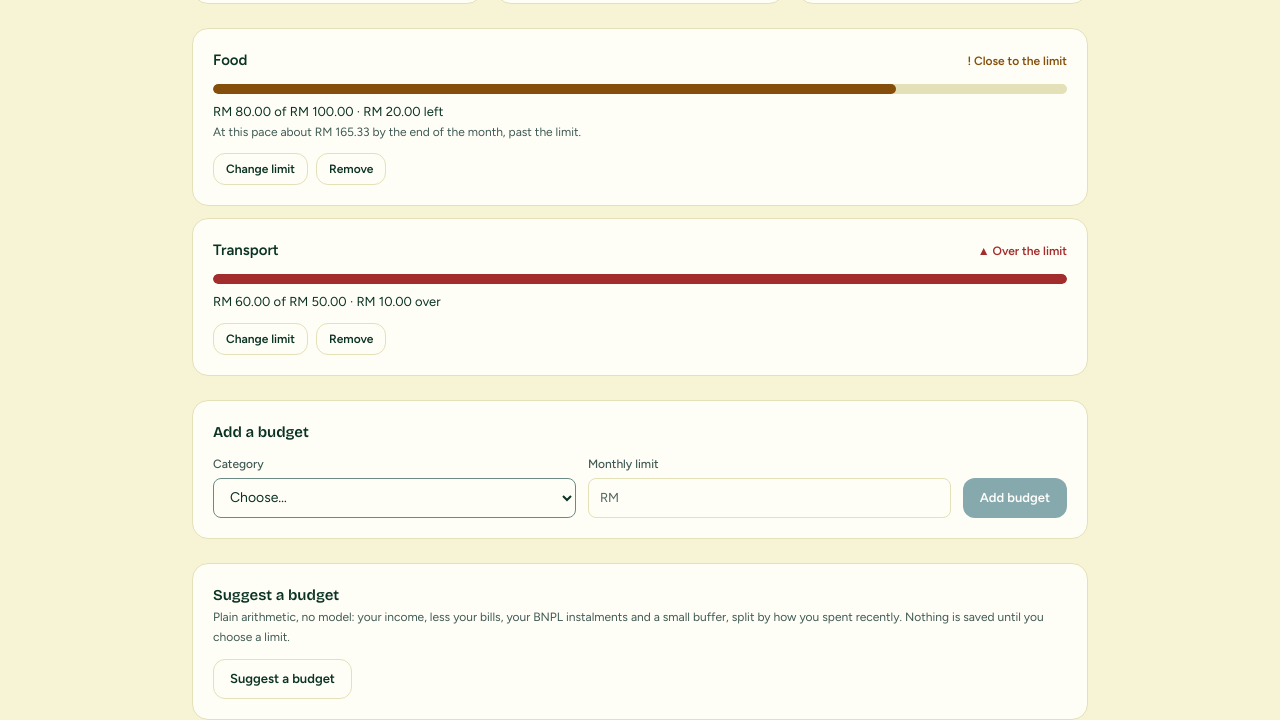
Test: BudgetsScreen › suggests a budget with the working shown, and saves one on request
(page scrolled)
What coordinates should you click on to do the following:
click the button "Suggest a budget"
I would click on:
 (282, 679)
Its box is x1=213 y1=659 x2=352 y2=699.
(page scrolled)
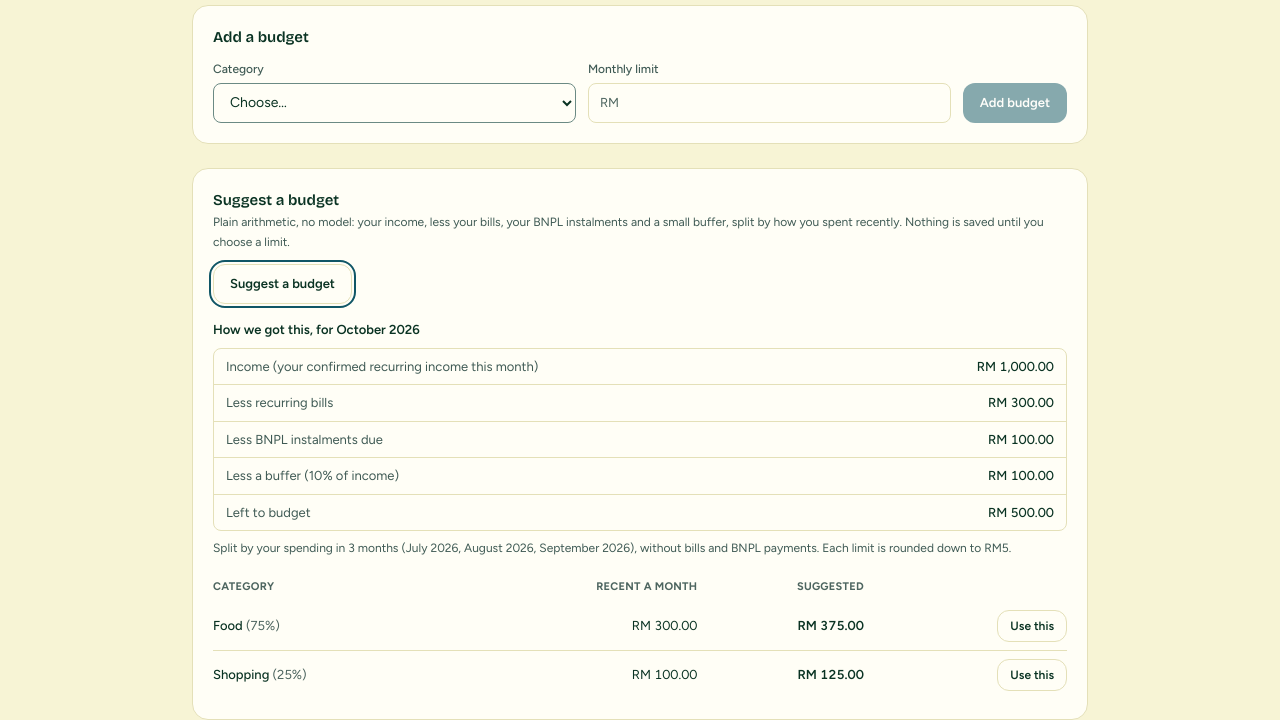
Check: the text "Left to budget" is shown, box x1=226 y1=502 x2=310 y2=522
Check: the text "RM 100.00" in the row of "Less a buffer (10% of income)" is shown, box x1=988 y1=468 x2=1054 y2=483
Check: the text "3 months" shows "July 2026, August 2026, September 2026", box x1=406 y1=541 x2=630 y2=555
What coordinates should you click on to do the following:
click the button with aria-label "Use RM 375.00 for Food"
I would click on:
 (1032, 626)
Its box is x1=997 y1=610 x2=1067 y2=642.
(page scrolled)
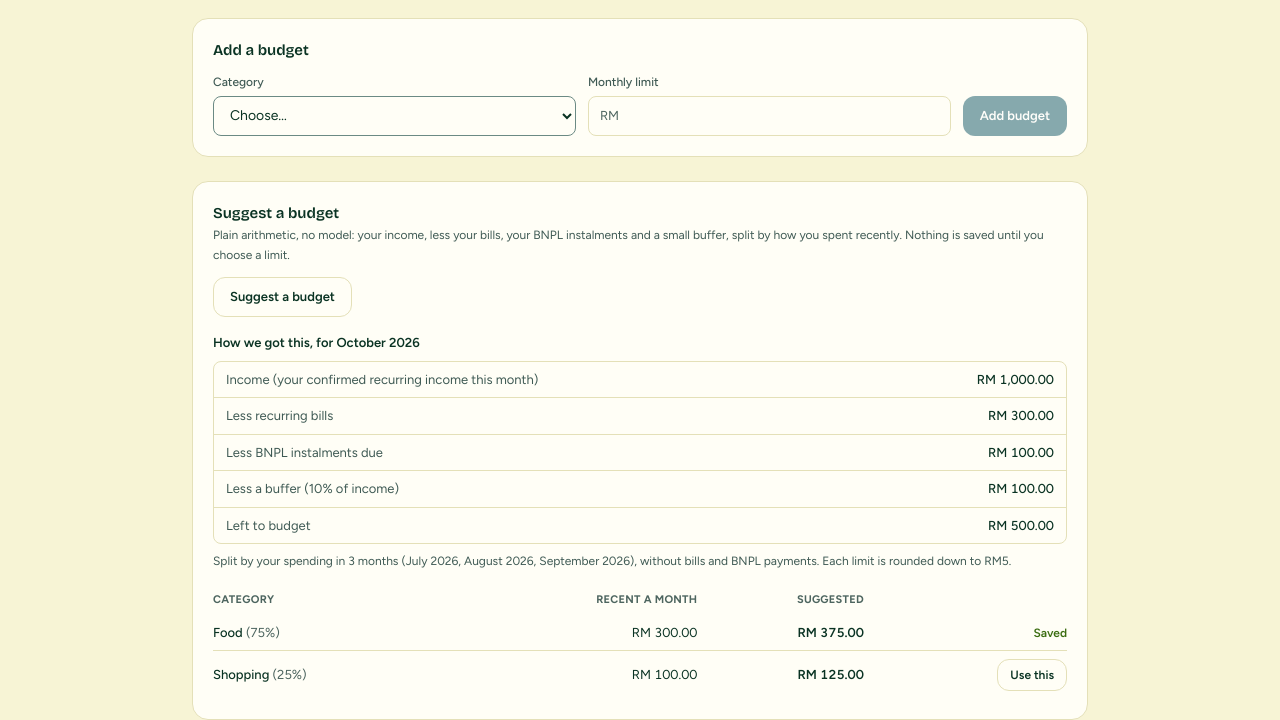
Check: the text "Saved" is shown, box x1=1034 y1=626 x2=1067 y2=640
